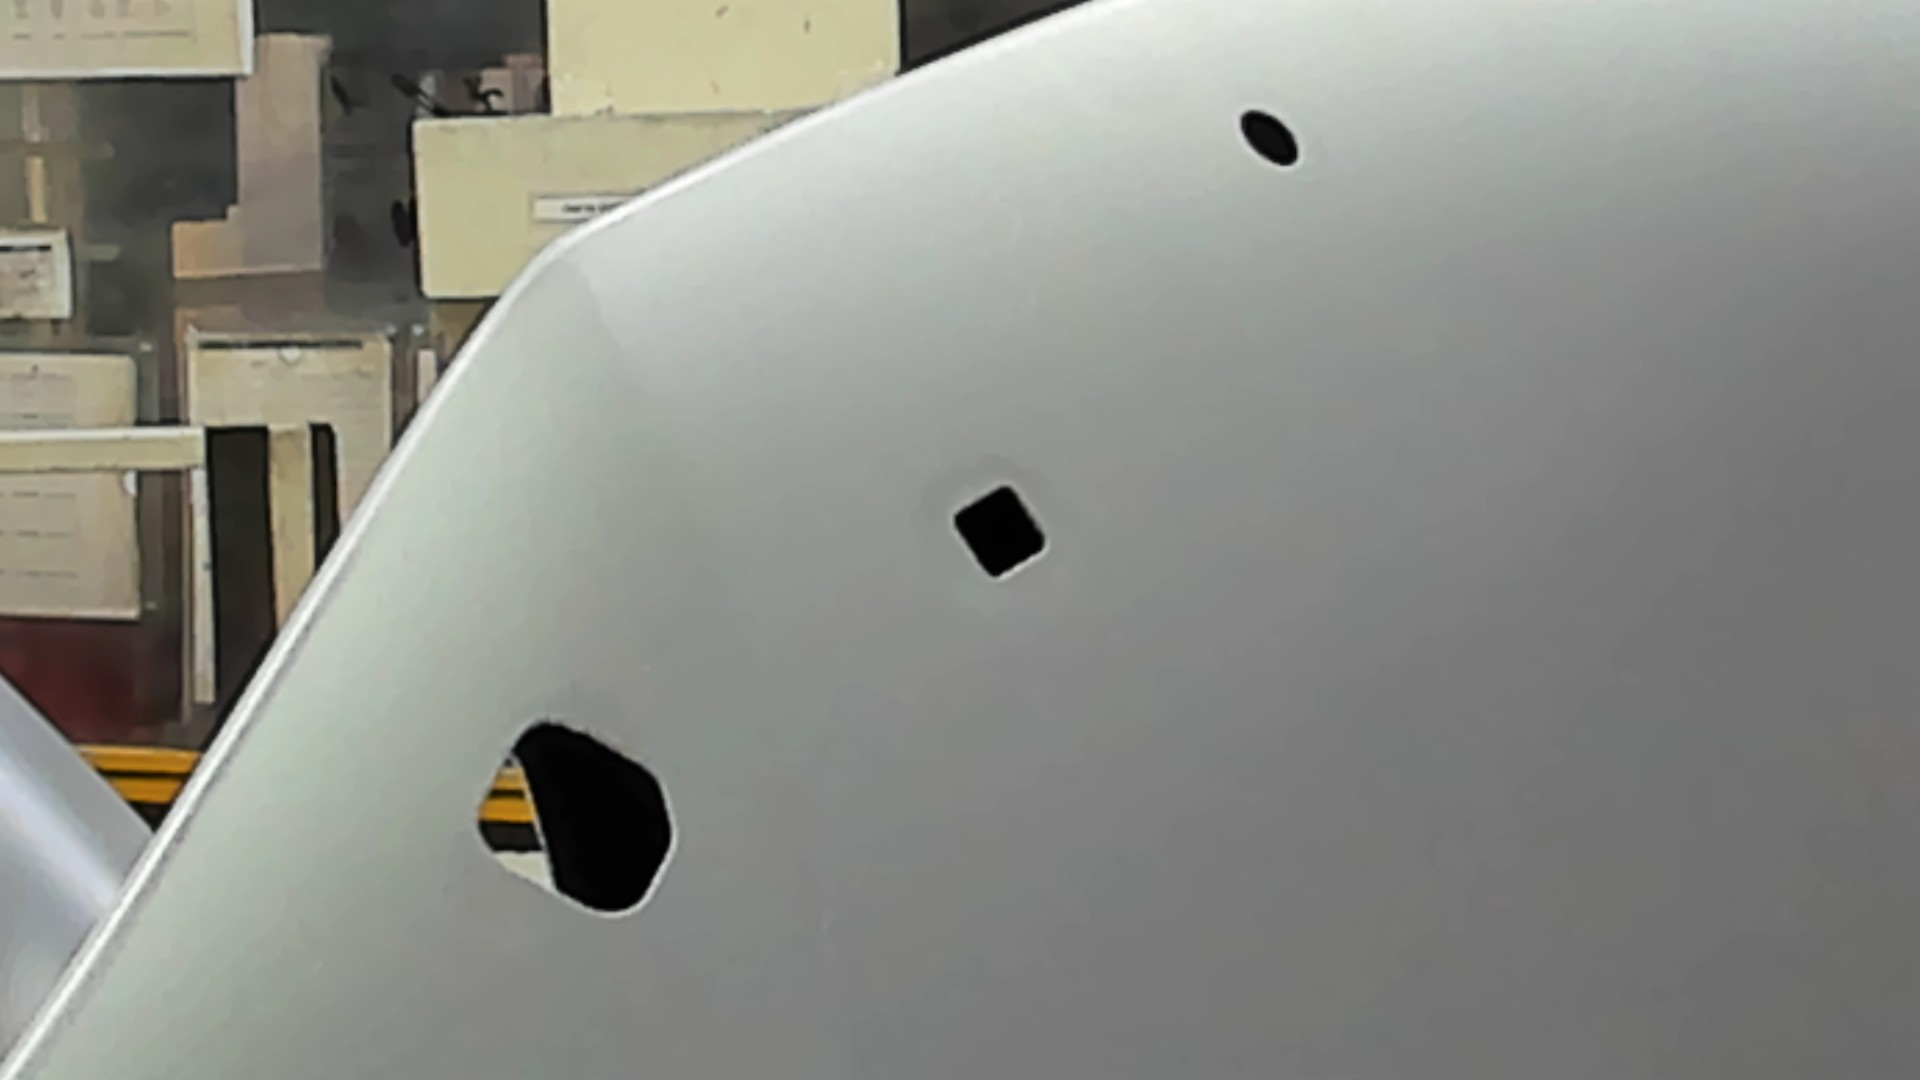capo: (1056, 175, 1920, 1080)
chico: (1233, 103, 1305, 174)
grande: (469, 709, 682, 927)
mediano: (947, 481, 1052, 587)
